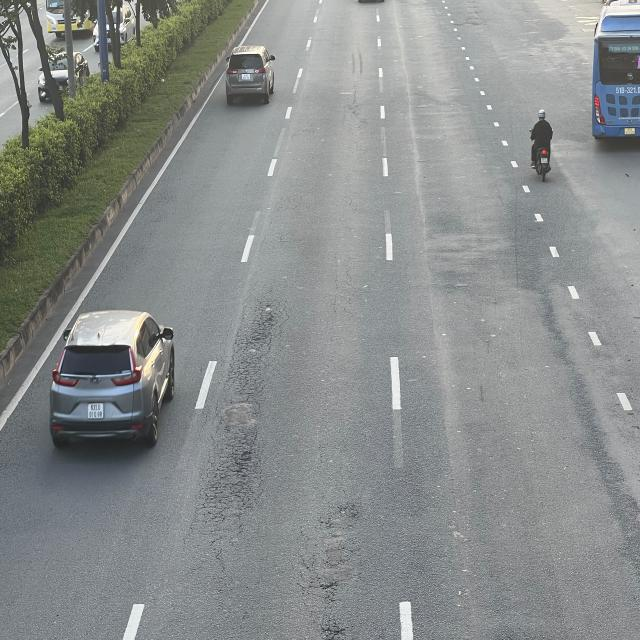car: (49, 309, 176, 449), (225, 46, 276, 103)
coach: (590, 2, 640, 140)
